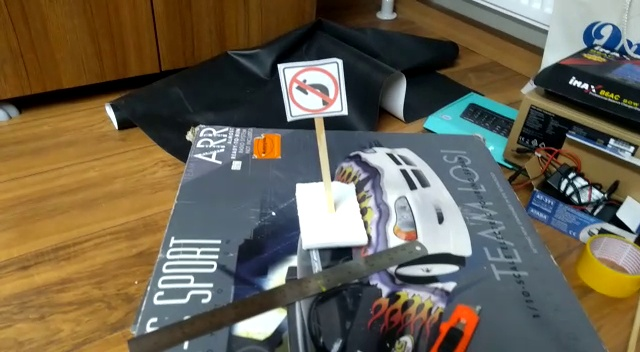sola_donulmez: (287, 63, 337, 115)
